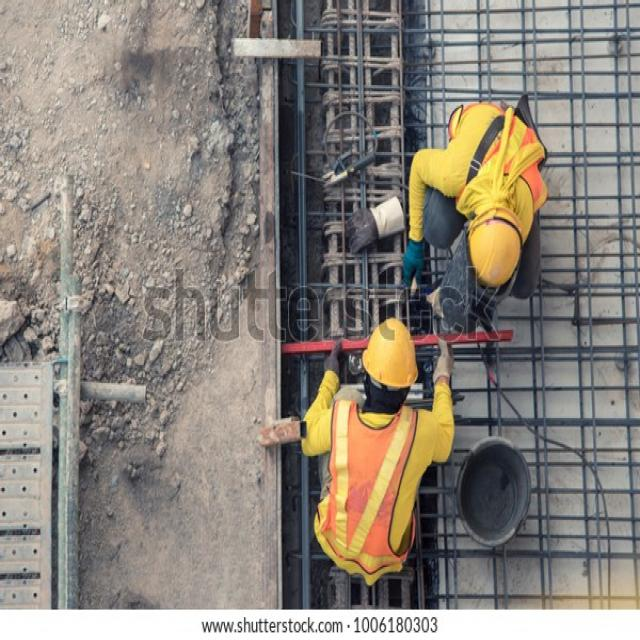Reflective-Jacket: (315, 398, 421, 567)
Safety-Helmet: (360, 312, 420, 392), (467, 208, 523, 289)
